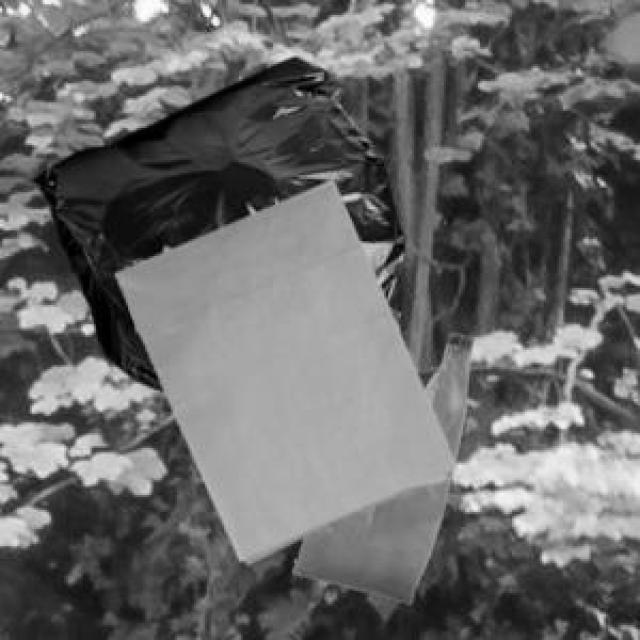miscellaneous trash: (30, 53, 401, 388)
paper: (113, 177, 452, 559)
